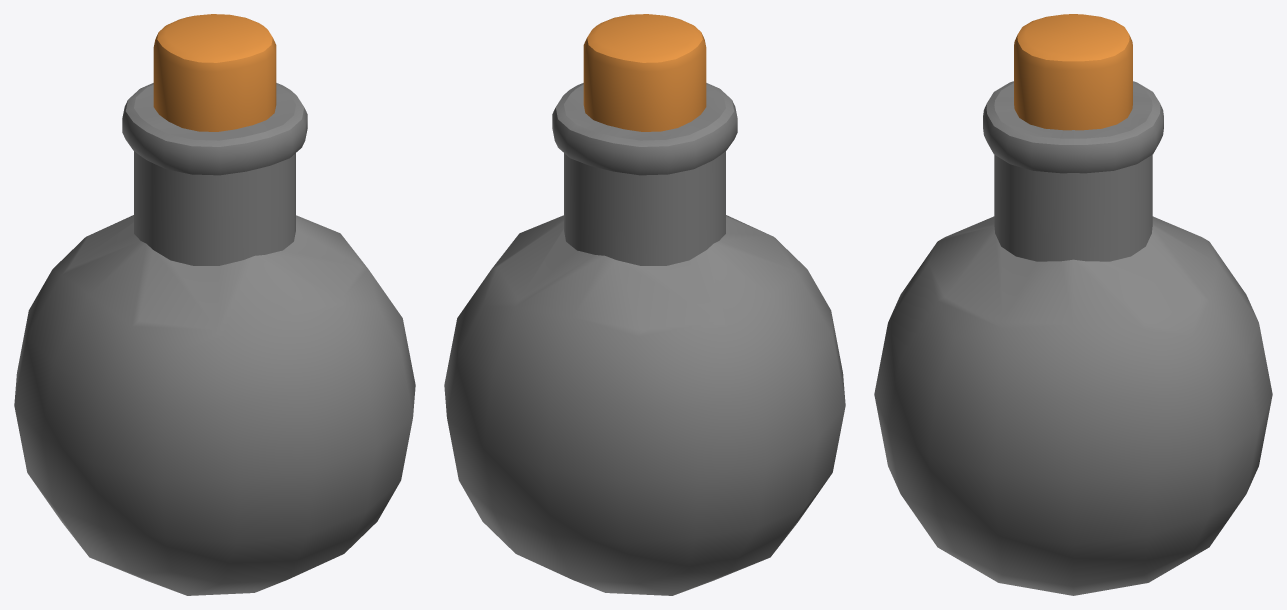
Rendered from UnknownPotion.fbx.
3 views of the same model, side by side, from view 1: azimuth 30°, elevation 25°; view 2: azimuth 150°, elevation 25°; view 3: azimuth 270°, elevation 25° (orthographic).
Parts seen in each view (by area): view 1: Cube.340; view 2: Cube.340; view 3: Cube.340.
Boxes of the visible parts, box(x1,y1,x2,y2) form: Cube.340: box(14, 14, 415, 595); Cube.340: box(444, 14, 845, 595); Cube.340: box(874, 14, 1272, 595).
Size of the model in its own units: 188 by 281 by 188.
